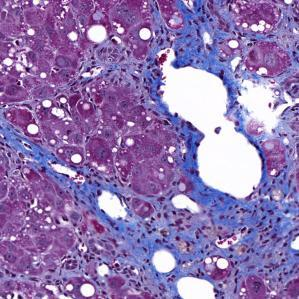fibrosis: (182, 190, 296, 272), (75, 187, 177, 251), (151, 8, 246, 72)
